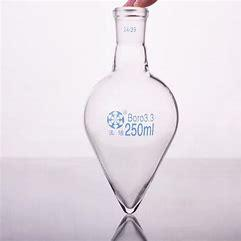Pear shaped flask: (73, 8, 182, 214)
